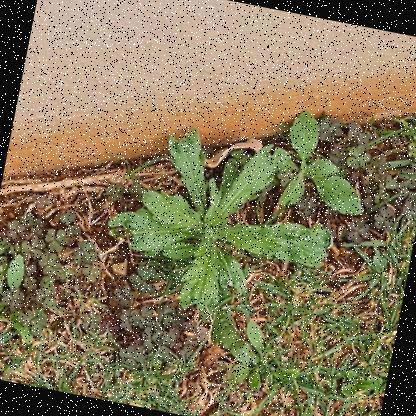Weeds: (94, 112, 350, 331), (243, 102, 377, 228), (223, 318, 309, 397), (0, 247, 59, 345)
